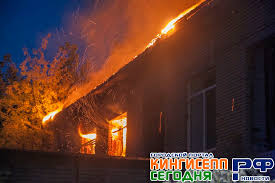fire: (144, 2, 221, 40), (79, 112, 143, 156)
